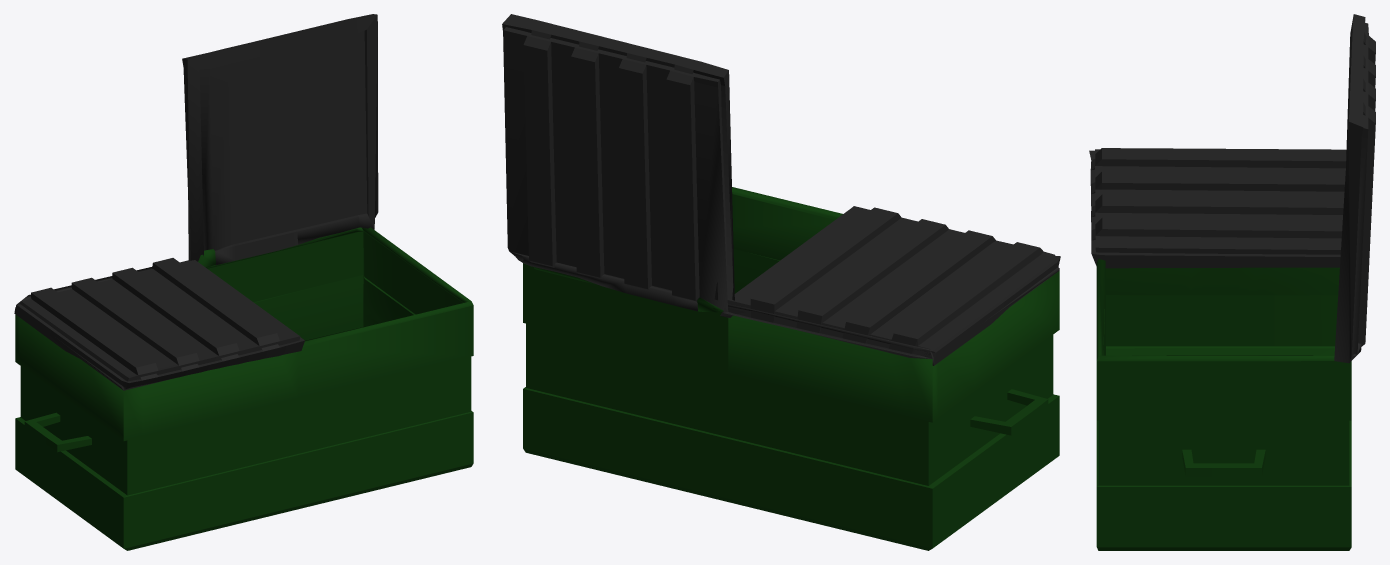
Rendered from Latão.fbx.
The picture shows the model from 3 angles, left to right: view 1: azimuth 30°, elevation 25°; view 2: azimuth 150°, elevation 25°; view 3: azimuth 270°, elevation 25°; orthographic projection. The views are drawn at different scales.
Parts seen in each view (by area): view 1: Cube, Cube.001, Cube.002; view 2: Cube, Cube.001, Cube.002; view 3: Cube, Cube.002, Cube.001.
Boxes of the visible parts, <box> form: Cube: <box>15,227,473,550</box>; Cube.001: <box>182,14,378,265</box>; Cube.002: <box>14,258,304,390</box>; Cube: <box>523,187,1059,550</box>; Cube.001: <box>502,14,734,311</box>; Cube.002: <box>720,206,1060,365</box>; Cube: <box>1096,258,1351,550</box>; Cube.002: <box>1089,148,1346,268</box>; Cube.001: <box>1334,14,1375,363</box>.
Size of the model in its own units: 517 by 447 by 266.
